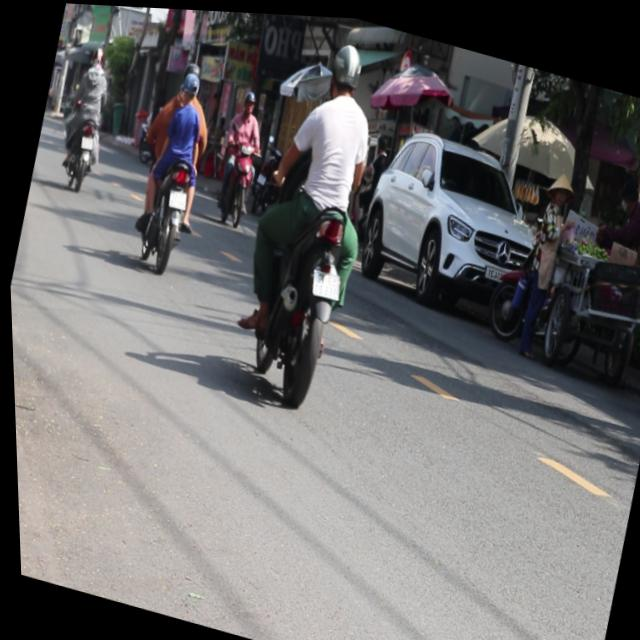helmet: (325, 34, 369, 99)
licenseplate: (210, 18, 410, 415), (117, 53, 229, 278)
motorcyclist: (176, 68, 202, 103)
nohelmet: (307, 264, 341, 297), (166, 186, 187, 208)
